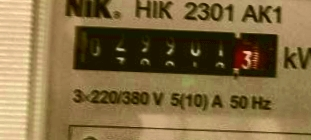0: (187, 32, 202, 58), (86, 35, 103, 56)
1: (212, 34, 226, 58)
2: (111, 33, 128, 53)
3: (239, 47, 253, 69)
9: (162, 33, 177, 56), (137, 32, 150, 55)
screen: (59, 14, 289, 88)
